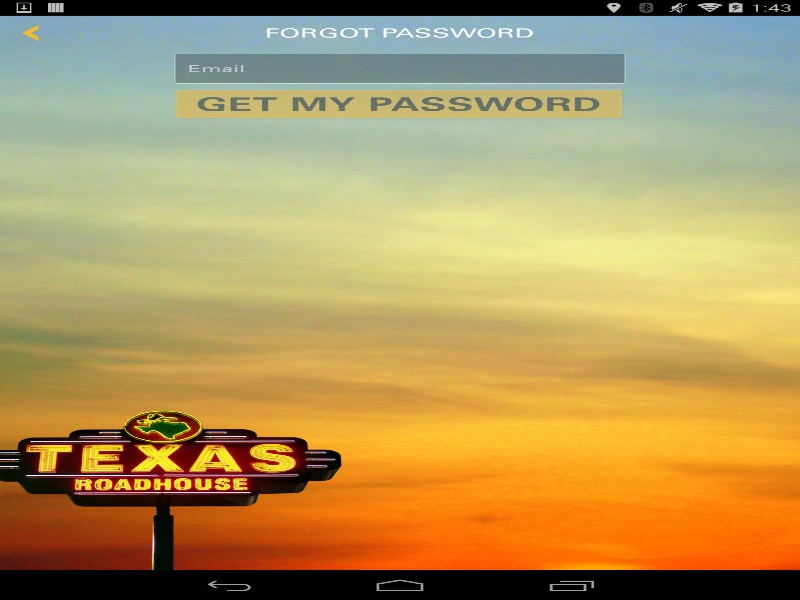Input: (174, 53, 625, 83)
